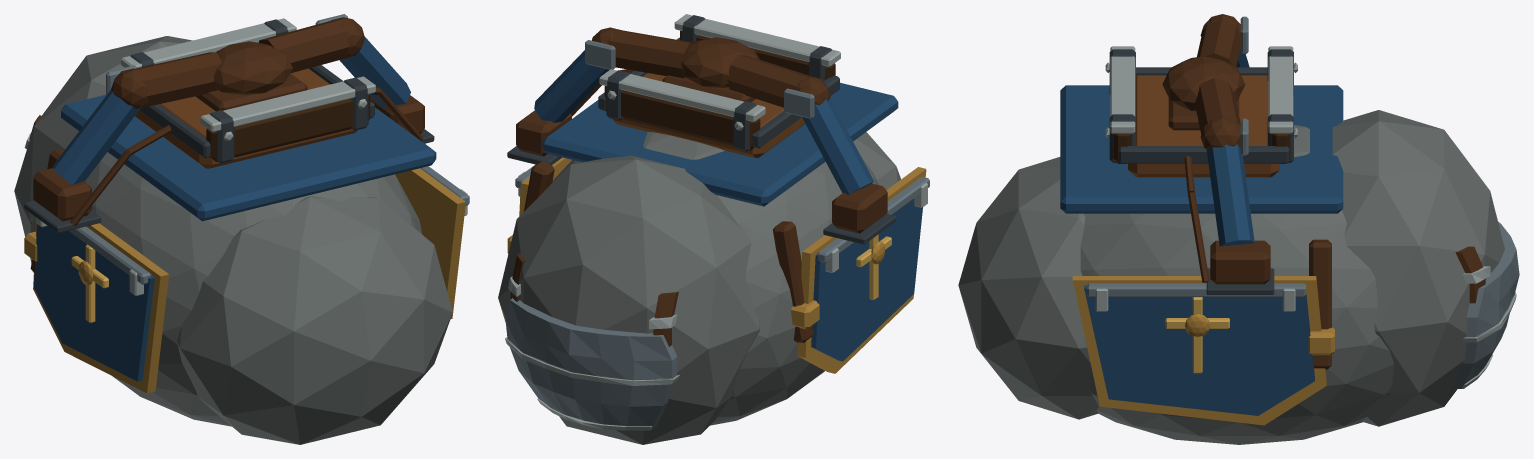
The model's file is Body.glb.
3 views of the same model, side by side, from view 1: azimuth 30°, elevation 25°; view 2: azimuth 150°, elevation 25°; view 3: azimuth 270°, elevation 25° (orthographic). The views are drawn at different scales.
Parts seen in each view (by area): view 1: Sculpture; view 2: Sculpture; view 3: Sculpture.
Boxes of the visible parts, x1,y1,x2,y2 form: Sculpture: (14,14,469,444); Sculpture: (498,14,929,444); Sculpture: (958,14,1519,444).
Bounding box in the file's own units: 2.09 × 1.92 × 2.7.
